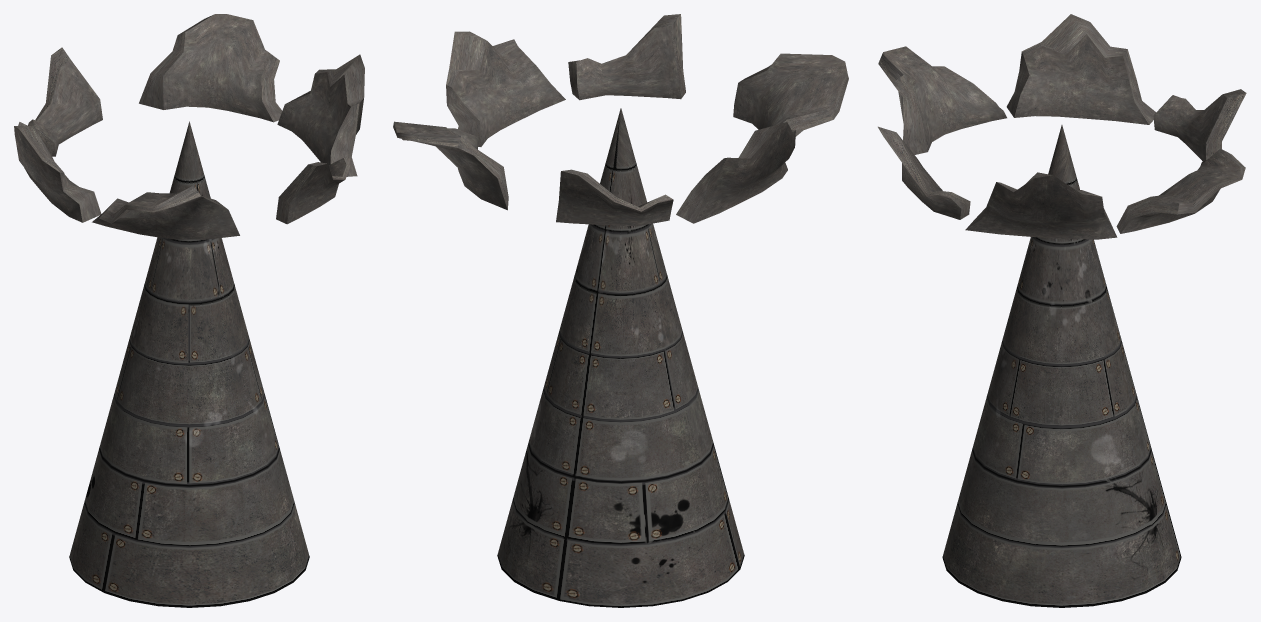
File: Spike.FBX
3 views of the same model, side by side, from view 1: azimuth 30°, elevation 25°; view 2: azimuth 150°, elevation 25°; view 3: azimuth 270°, elevation 25° (orthographic). The views are drawn at different scales.
Visible parts, largest first — view 1: Cone002, Box010, Box011, Box008, Box009, Box007, Box012; view 2: Cone002, Box011, Box008, Box012, Box007, Box009, Box010; view 3: Cone002, Box007, Box008, Box011, Box010, Box009, Box012.
Part boxes in pixels (left/top/right/bottom): Cone002: left=69, top=121, right=309, bottom=607; Box010: left=139, top=14, right=282, bottom=122; Box011: left=277, top=54, right=364, bottom=176; Box008: left=92, top=185, right=239, bottom=239; Box009: left=28, top=47, right=102, bottom=156; Box007: left=14, top=122, right=101, bottom=222; Box012: left=276, top=158, right=351, bottom=224; Cone002: left=497, top=108, right=744, bottom=607; Box011: left=446, top=31, right=565, bottom=146; Box008: left=733, top=53, right=848, bottom=136; Box012: left=568, top=14, right=685, bottom=100; Box007: left=676, top=122, right=795, bottom=223; Box009: left=556, top=169, right=673, bottom=226; Box010: left=393, top=121, right=508, bottom=210; Cone002: left=942, top=125, right=1181, bottom=607; Box007: left=1006, top=14, right=1155, bottom=124; Box008: left=878, top=46, right=1006, bottom=154; Box011: left=965, top=172, right=1117, bottom=239; Box010: left=1116, top=148, right=1245, bottom=233; Box009: left=1153, top=89, right=1246, bottom=161; Box012: left=878, top=126, right=970, bottom=219.
Size of the model in its own units: 62.81 by 84.08 by 60.77.
